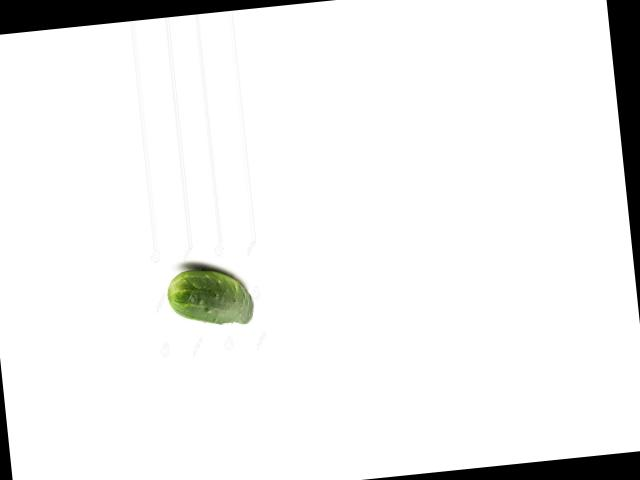cucumber: (164, 263, 255, 331)
